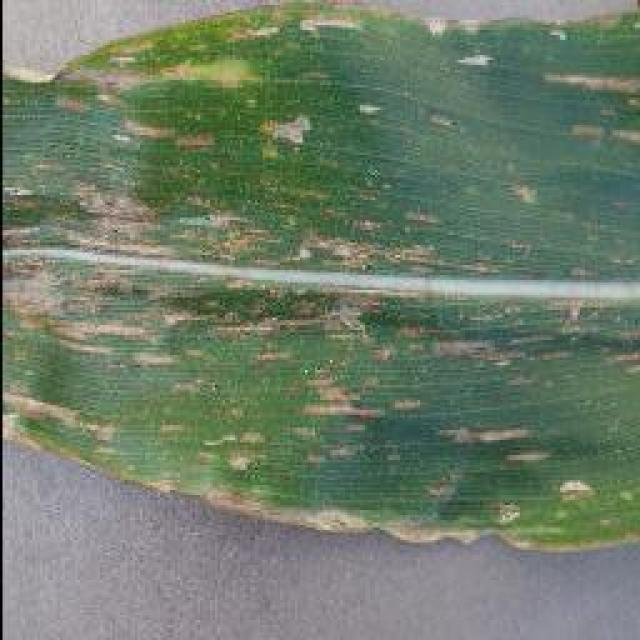Corn_Grey_Leaf_Spot: (10, 38, 640, 482)
